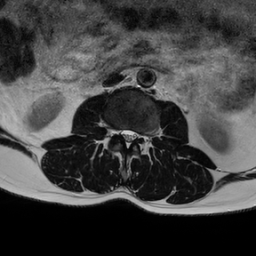CCS_normal: (125, 124, 131, 152)
LFS_severe_stenosis: (138, 127, 144, 144)
LLS_stenosis: (131, 124, 138, 144)
RFS_stenosis: (111, 122, 119, 141)
RLS_stenosis: (119, 122, 125, 142)
